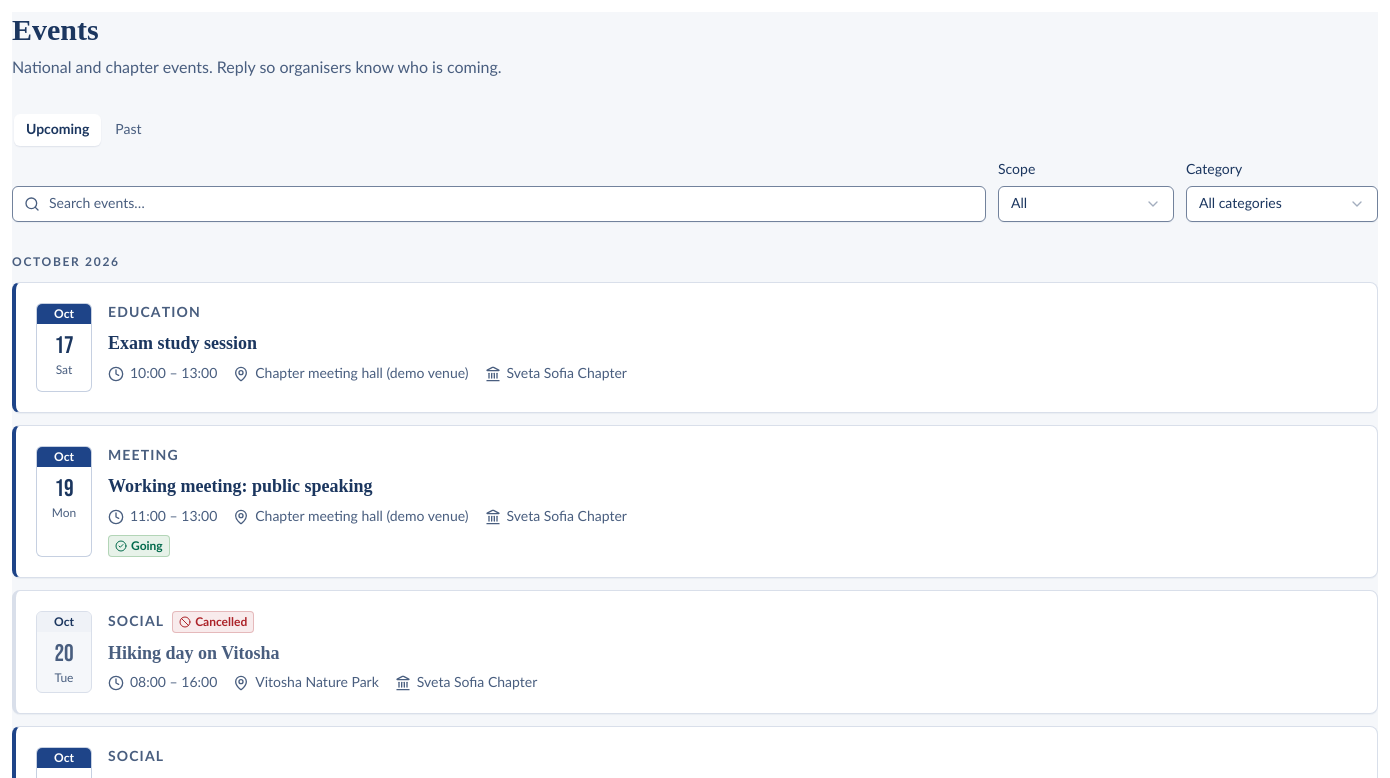
Test: EventsPage › shows past events on the Past tab
The image size is (1390, 778).
Check: the link "Exam study session" is shown, box [108,333,257,353]
Click the radio button labelled "Past".
click(128, 130)  # box [103,114,154,146]
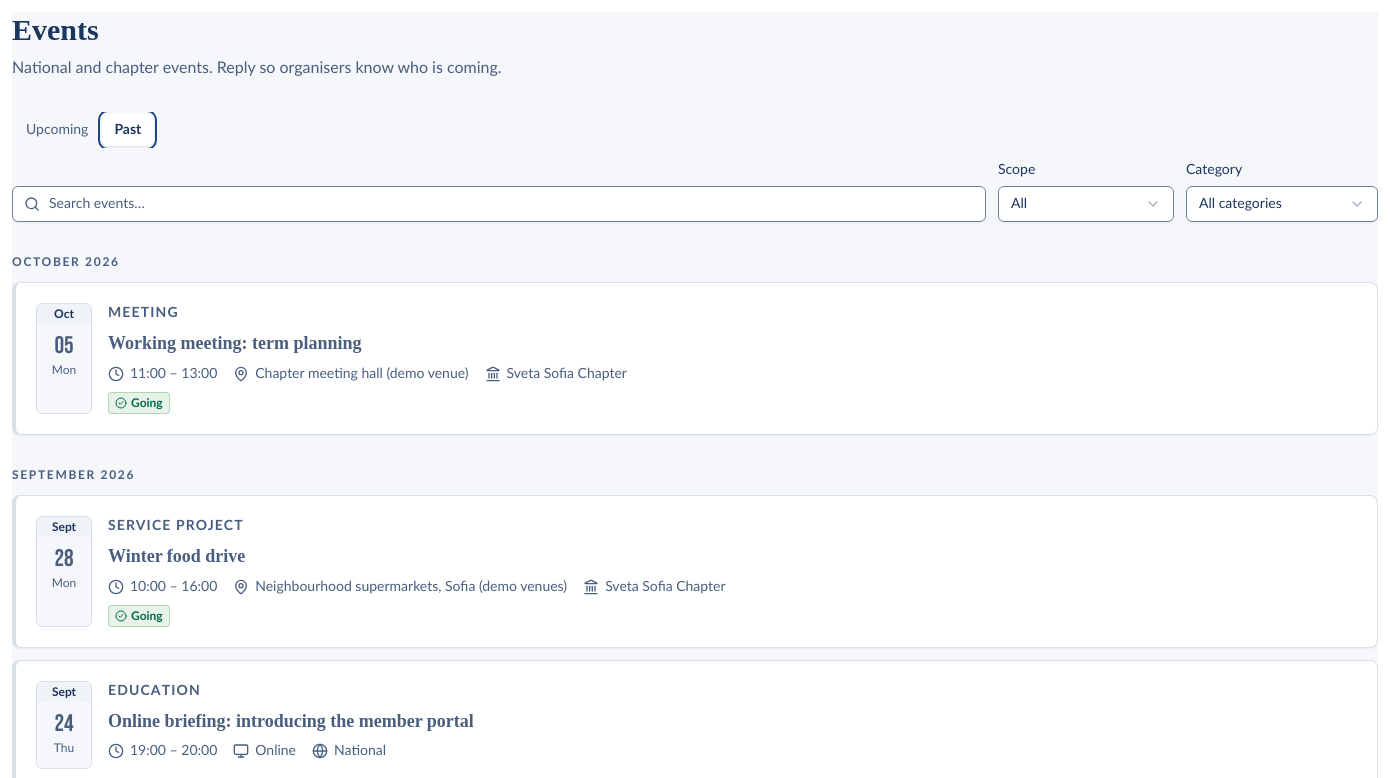
Check: the link "Exam study session" is gone
